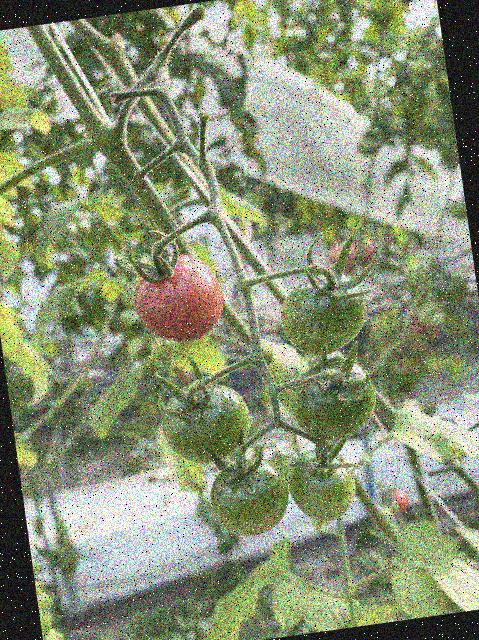l_fully_ripened: (129, 249, 230, 347)
l_green: (285, 353, 381, 446), (276, 269, 374, 360), (157, 378, 255, 468), (205, 453, 294, 541), (285, 444, 360, 526)
